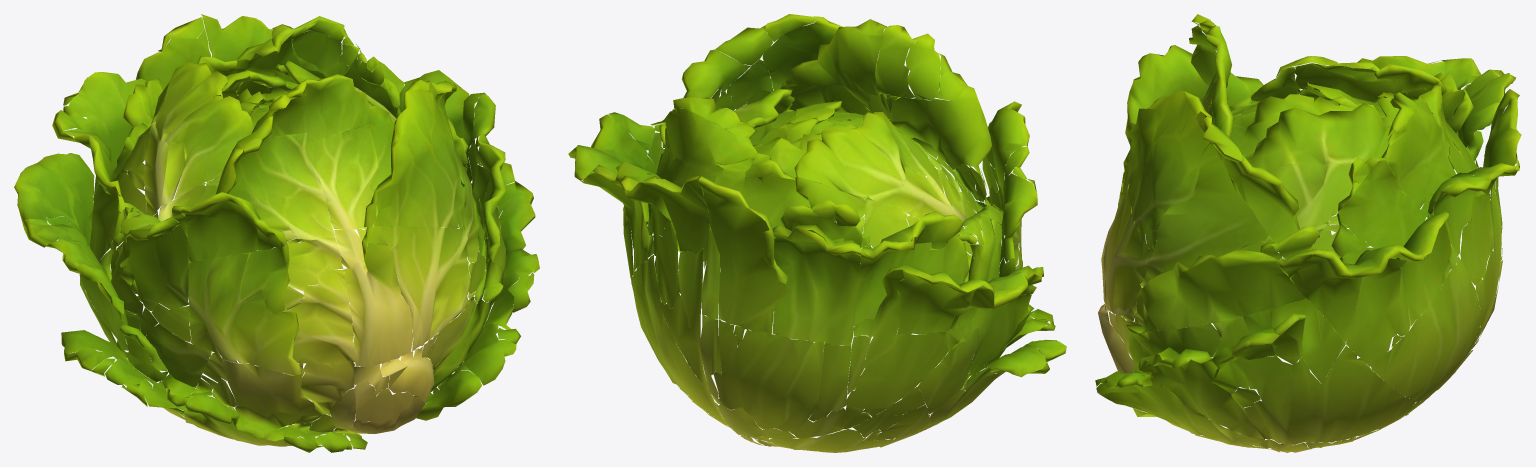
Rendered from repollo.glb.
3 views of the same model, side by side, from view 1: azimuth 30°, elevation 25°; view 2: azimuth 150°, elevation 25°; view 3: azimuth 270°, elevation 25° (orthographic). The views are drawn at different scales.
Parts seen in each view (by area): view 1: tripo_node_80631e57-1d05-4b23-b4a6-510270f6b609; view 2: tripo_node_80631e57-1d05-4b23-b4a6-510270f6b609; view 3: tripo_node_80631e57-1d05-4b23-b4a6-510270f6b609.
Part boxes in pixels (<box>): tripo_node_80631e57-1d05-4b23-b4a6-510270f6b609: <box>14,14,539,452</box>; tripo_node_80631e57-1d05-4b23-b4a6-510270f6b609: <box>568,14,1066,452</box>; tripo_node_80631e57-1d05-4b23-b4a6-510270f6b609: <box>1095,14,1521,452</box>.
Bounding box in the file's own units: 0.9809 × 0.8046 × 0.778.
Materials: 1 (1 with a texture image).
